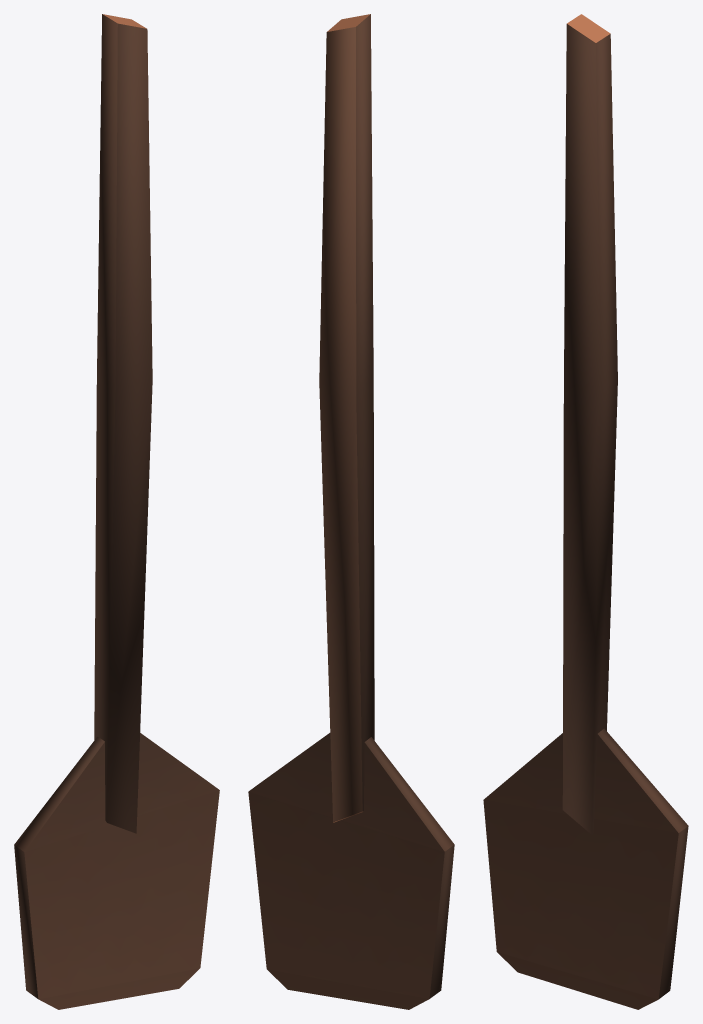
Rendered from Paddle_1A.fbx.
3 views of the same model, side by side, from view 1: azimuth 30°, elevation 25°; view 2: azimuth 150°, elevation 25°; view 3: azimuth 330°, elevation 25° (orthographic).
Visible parts, largest first — view 1: Paddle_1A; view 2: Paddle_1A; view 3: Paddle_1A.
Part boxes in pixels (bbox=[...]): Paddle_1A: bbox=[14, 14, 219, 1009]; Paddle_1A: bbox=[248, 14, 454, 1009]; Paddle_1A: bbox=[483, 14, 688, 1009].
Bounding box in the file's own units: 0.3357 × 1.61 × 0.0537.
